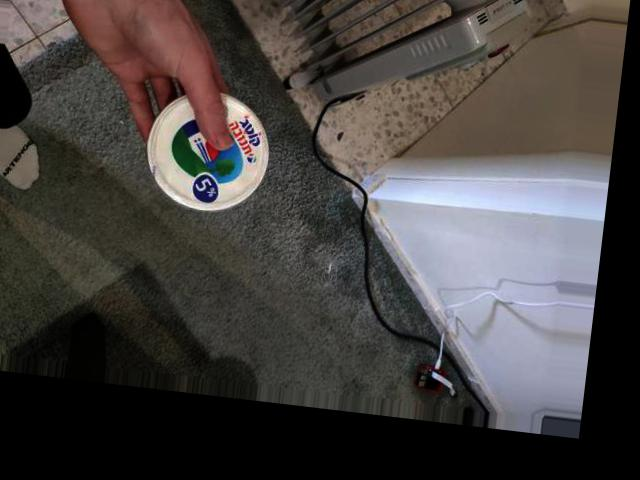cotage: (144, 85, 269, 211)
